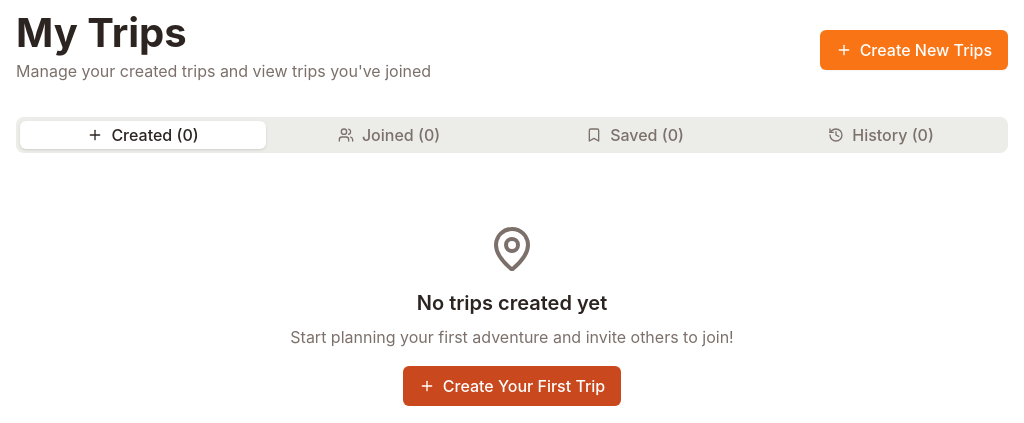
MyTripsPage › shows empty state for joined trips tab
Expected: the heading "No trips created yet" is shown, [417,291,607,315]
Note: userEvent fires the full pointer-event chain that Radix UI requires
Click the tab "Joined (0)".
click(389, 135)  # box [266,121,512,149]
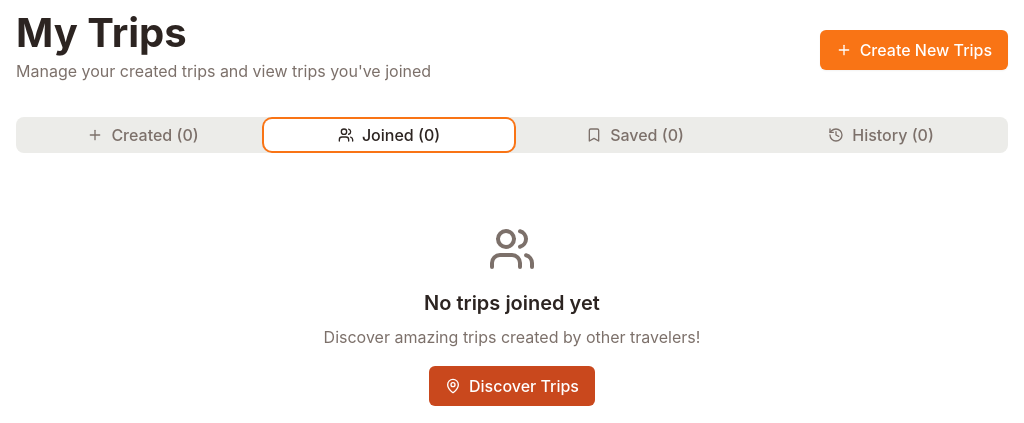
Expected: the heading "No trips joined yet" is shown, [424,291,600,315]
